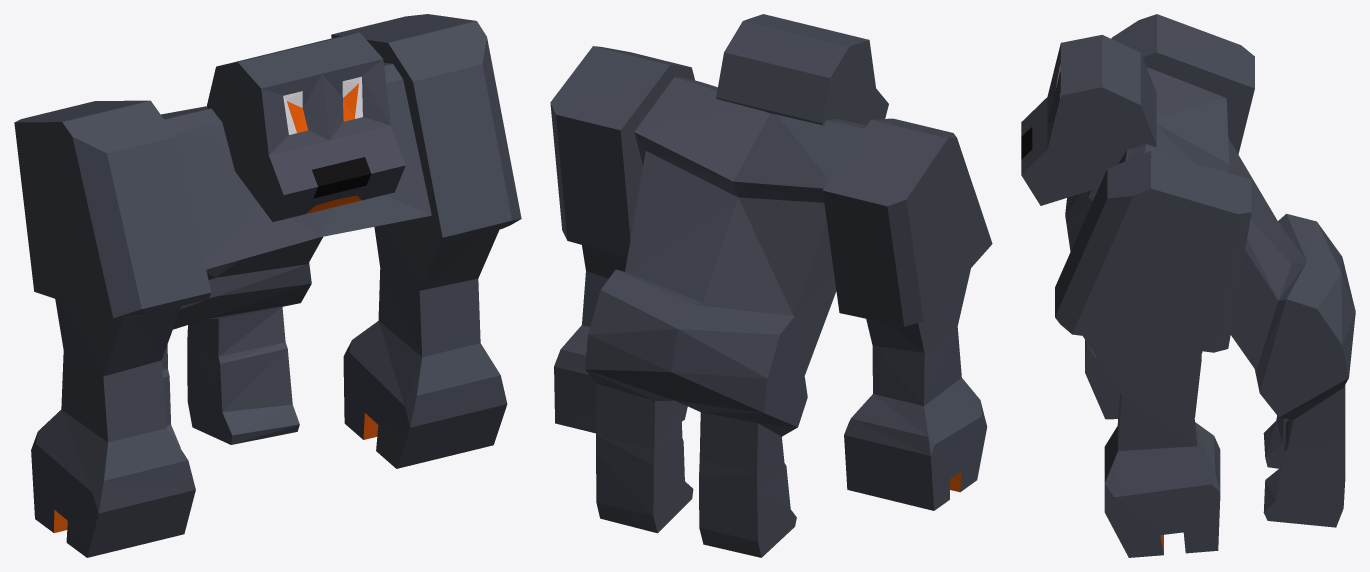
The model's file is kong_000010.obj.
3 views of the same model, side by side, from view 1: azimuth 30°, elevation 25°; view 2: azimuth 150°, elevation 25°; view 3: azimuth 270°, elevation 25° (orthographic). The views are drawn at different scales.
Visible parts, largest first — view 1: Cube; view 2: Cube; view 3: Cube.
Part boxes in pixels (x1,y1,x2,y2): Cube: (14, 14, 521, 557); Cube: (550, 14, 992, 557); Cube: (1021, 14, 1355, 557).
Bounding box in the file's own units: 5.84 × 6.39 × 4.54.
Materials: 1 (1 with a texture image).
